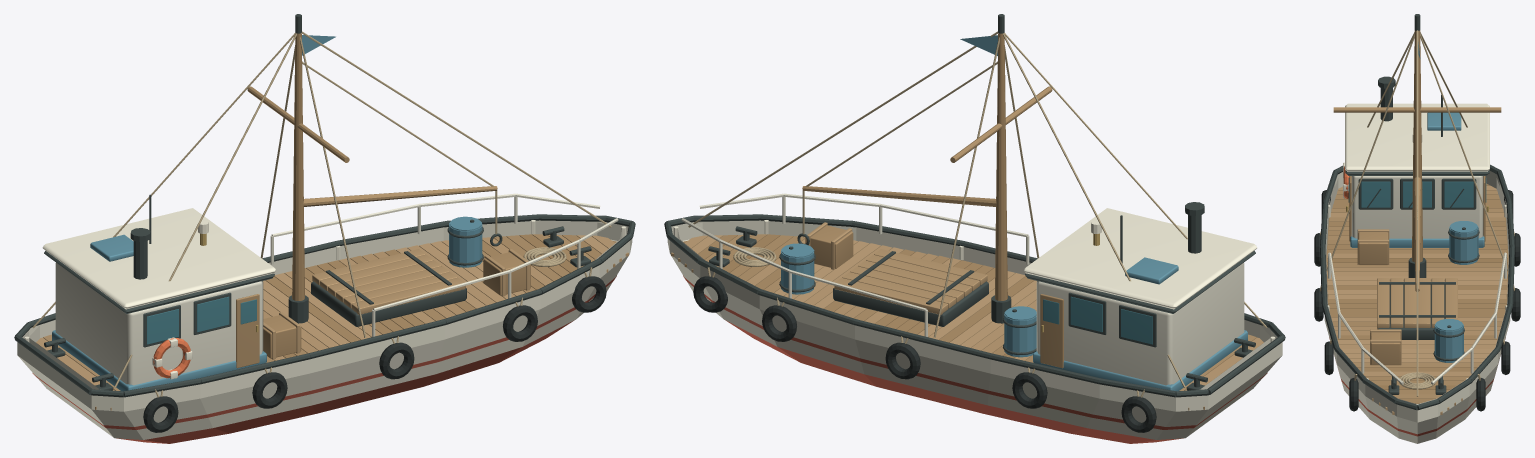
Rendered from margo-07.glb.
3 renders of one model, left to right at view 1: azimuth 30°, elevation 25°; view 2: azimuth 150°, elevation 25°; view 3: azimuth 270°, elevation 25°, orthographic. The views are drawn at different scales.
Parts seen in each view (by area): view 1: Ivory hull belly, Ivory roof, Wheelhouse cream body, Ivory bulwark outside, Bulwark inner lining, Lower red hull, Main tapered mast, Hold coaming, Wheelhouse blue sill, Fine red rubbing stripe, Working boom, Cabin door (+34 smaller); view 2: Ivory hull belly, Ivory roof, Wheelhouse cream body, Ivory bulwark outside, Bulwark inner lining, Lower red hull, Main tapered mast, Hold coaming, Wheelhouse blue sill, Fine red rubbing stripe, Working boom, Wooden supply crate.001 (+33 smaller); view 3: Ivory roof, Wheelhouse cream body, Ivory hull belly, Ivory bulwark outside, Main tapered mast, Standing rigging, Wooden supply crate, Cross spar, Wooden supply crate.001, Blue steel barrel, Bulwark inner lining, Blue steel barrel.001 (+80 smaller).
Boxes of the visible parts, x1,y1,x2,y2 form: Ivory hull belly: [18, 239, 629, 439]; Ivory roof: [42, 208, 275, 309]; Wheelhouse cream body: [55, 263, 263, 385]; Ivory bulwark outside: [17, 220, 632, 411]; Bulwark inner lining: [29, 221, 622, 389]; Lower red hull: [116, 320, 574, 443]; Main tapered mast: [292, 33, 304, 300]; Hold coaming: [311, 281, 466, 326]; Wheelhouse blue sill: [52, 330, 266, 391]; Fine red rubbing stripe: [32, 275, 616, 429]; Working boom: [303, 186, 497, 206]; Cabin door: [236, 294, 259, 368]; Ivory hull belly: [670, 239, 1281, 439]; Ivory roof: [1024, 208, 1257, 309]; Wheelhouse cream body: [1036, 263, 1244, 385]; Ivory bulwark outside: [667, 220, 1282, 411]; Bulwark inner lining: [677, 221, 1270, 389]; Lower red hull: [725, 320, 1183, 443]; Main tapered mast: [995, 33, 1007, 300]; Hold coaming: [833, 281, 988, 326]; Wheelhouse blue sill: [1033, 330, 1247, 391]; Fine red rubbing stripe: [683, 275, 1267, 429]; Working boom: [802, 186, 996, 206]; Wooden supply crate.001: [805, 225, 853, 268]; Ivory roof: [1345, 103, 1489, 171]; Wheelhouse cream body: [1351, 176, 1483, 238]; Ivory hull belly: [1325, 218, 1509, 443]; Ivory bulwark outside: [1324, 171, 1510, 422]; Main tapered mast: [1412, 30, 1422, 262]; Standing rigging: [1416, 30, 1418, 396]; Wooden supply crate: [1358, 232, 1388, 265]; Cross spar: [1333, 107, 1501, 112]; Wooden supply crate.001: [1370, 332, 1400, 365]; Blue steel barrel: [1449, 225, 1478, 264]; Bulwark inner lining: [1326, 173, 1508, 404]; Blue steel barrel.001: [1434, 323, 1463, 362].
Bounding box in the file's own units: 11.95 × 7.06 × 4.22.
